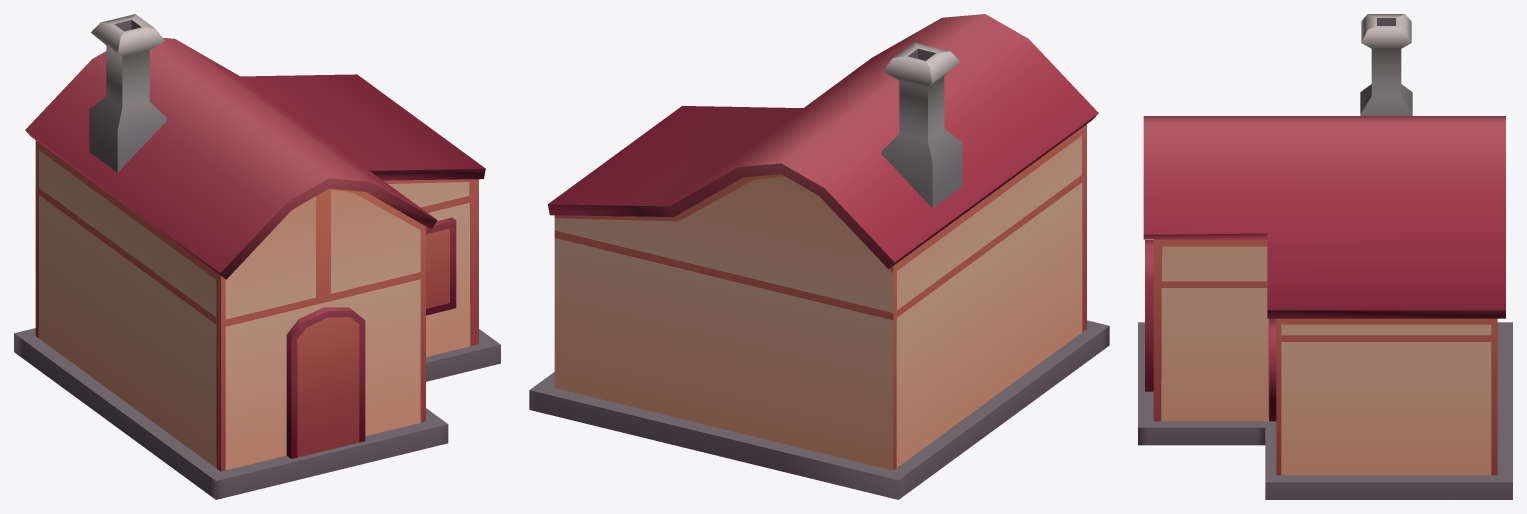
Rendered from Mdl_House.fbx.
3 views of the same model, side by side, from view 1: azimuth 30°, elevation 25°; view 2: azimuth 150°, elevation 25°; view 3: azimuth 270°, elevation 25° (orthographic). The views are drawn at different scales.
Visible parts, largest first — view 1: House; view 2: House; view 3: House.
Part boxes in pixels (<box>): House: <box>14,14,500,499</box>; House: <box>529,14,1109,499</box>; House: <box>1138,14,1512,499</box>.
Bounding box in the file's own units: 530 × 523 × 524.
